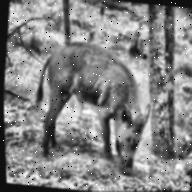boar: (16, 28, 154, 177)
